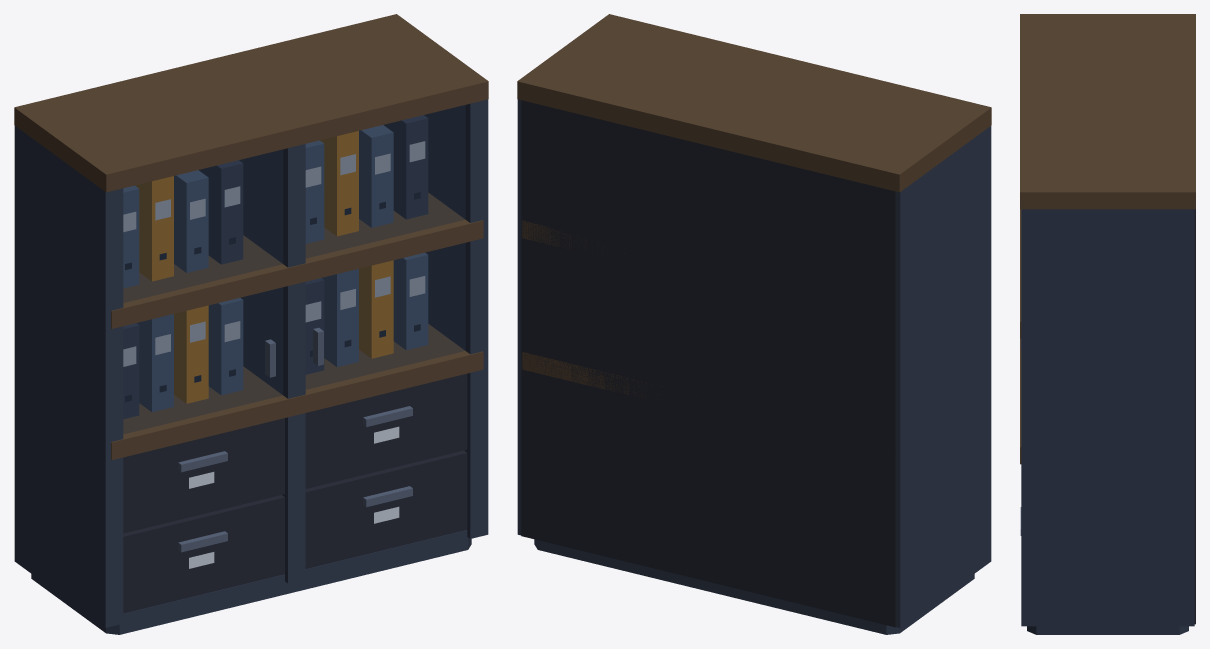
File: off_filing_cabinet.glb
3 renders of one model, left to right at view 1: azimuth 30°, elevation 25°; view 2: azimuth 150°, elevation 25°; view 3: azimuth 270°, elevation 25°, orthographic. The views are drawn at different scales.
Parts seen in each view (by area): view 1: binder, shelf, display_door, file_drawer, binder.001, binder.002, cardholder, file_pull, finger_hole; view 2: file_drawer, binder, shelf; view 3: binder, shelf, file_drawer.
Boxes of the visible parts, box(x1,y1,x2,y2) form: binder: box(14, 99, 488, 634); shelf: box(14, 14, 488, 460); display_door: box(123, 105, 465, 433); file_drawer: box(123, 373, 467, 613); binder.001: box(123, 125, 428, 412); binder.002: box(135, 131, 393, 403); cardholder: box(123, 141, 425, 568); file_pull: box(178, 327, 412, 552); finger_hole: box(125, 192, 420, 402); file_drawer: box(521, 100, 895, 627); binder: box(517, 99, 991, 634); shelf: box(517, 14, 991, 452); binder: box(1021, 209, 1194, 634); shelf: box(1020, 14, 1195, 464); file_drawer: box(1194, 209, 1195, 624).
Bounding box in the file's own units: 1.8 × 2.1 × 0.75.
